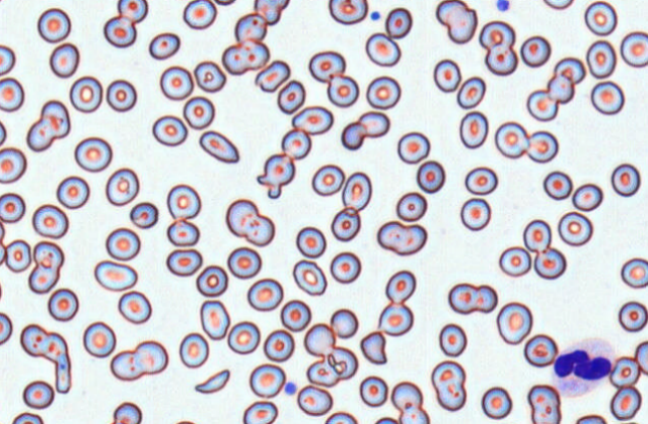GRAN: (552, 338, 614, 396)
PLT: (284, 382, 298, 397), (496, 0, 512, 13), (369, 9, 381, 21)
RBC: (109, 339, 168, 381), (225, 198, 274, 246), (28, 240, 64, 294), (435, 0, 477, 44), (221, 38, 269, 75), (496, 301, 532, 345), (94, 259, 137, 291), (74, 136, 112, 172), (198, 130, 239, 163), (527, 384, 561, 423), (105, 167, 139, 206), (248, 363, 285, 398), (292, 259, 327, 296), (494, 121, 529, 158), (31, 203, 68, 238), (199, 299, 230, 340), (291, 105, 333, 135), (166, 183, 201, 219), (82, 321, 116, 358), (246, 277, 283, 311), (69, 75, 102, 113), (341, 171, 372, 211), (365, 32, 400, 67), (557, 211, 592, 246), (377, 302, 413, 336), (365, 75, 401, 109), (37, 7, 71, 43), (308, 50, 345, 83), (585, 39, 616, 78), (117, 290, 152, 324), (159, 65, 193, 100), (105, 227, 140, 261), (590, 80, 624, 115), (254, 59, 290, 92), (584, 0, 617, 36), (39, 101, 71, 138), (523, 333, 557, 367), (56, 175, 90, 209), (609, 385, 642, 420), (226, 246, 261, 279), (296, 384, 332, 416), (459, 110, 488, 149), (326, 73, 359, 107), (311, 163, 345, 196), (227, 320, 260, 354), (182, 95, 215, 129), (152, 114, 187, 146), (178, 332, 209, 368), (195, 264, 228, 297), (397, 131, 430, 164), (303, 322, 335, 356), (385, 269, 416, 304), (479, 20, 515, 50), (49, 42, 79, 78), (390, 380, 423, 412), (103, 15, 136, 47), (533, 247, 566, 279), (526, 130, 558, 163), (193, 60, 226, 92), (397, 223, 430, 255), (47, 287, 78, 321), (330, 206, 360, 241), (432, 360, 467, 390), (485, 44, 517, 76), (526, 89, 558, 121), (329, 251, 361, 283), (498, 246, 531, 277), (280, 299, 311, 332), (481, 386, 512, 419), (263, 329, 294, 362), (106, 79, 137, 112), (460, 197, 490, 231), (610, 163, 640, 197), (182, 0, 217, 29), (276, 79, 305, 114), (166, 248, 202, 276), (620, 31, 648, 67), (609, 356, 640, 388), (295, 226, 326, 258), (234, 12, 267, 42), (281, 127, 311, 160), (438, 323, 467, 357), (456, 75, 485, 109), (328, 0, 367, 25), (0, 146, 26, 183), (395, 191, 427, 221), (618, 300, 648, 332), (520, 35, 550, 67), (306, 358, 339, 387), (522, 219, 551, 252), (416, 160, 445, 193), (464, 166, 497, 195), (433, 58, 461, 92), (26, 118, 53, 153), (40, 332, 71, 362), (359, 375, 388, 407), (22, 380, 54, 409), (166, 218, 199, 246), (435, 382, 468, 410), (4, 238, 31, 272), (253, 0, 289, 25), (329, 308, 358, 339), (553, 56, 585, 84), (384, 7, 412, 39), (148, 32, 180, 60), (543, 170, 572, 200), (572, 183, 603, 211), (620, 257, 648, 288), (0, 76, 24, 112), (20, 323, 46, 356), (546, 73, 574, 103), (376, 220, 406, 248), (358, 110, 389, 137), (242, 400, 278, 423), (129, 201, 158, 229), (0, 192, 25, 223), (110, 401, 142, 424), (117, 0, 148, 23), (398, 406, 429, 423), (634, 340, 648, 375), (0, 44, 15, 76), (0, 311, 12, 345), (11, 412, 44, 424), (324, 411, 357, 423), (574, 414, 607, 424), (542, 0, 574, 9), (373, 416, 398, 424), (0, 119, 6, 146), (0, 241, 6, 266), (172, 419, 199, 424), (0, 219, 5, 242), (213, 0, 236, 5), (0, 274, 3, 304), (615, 421, 644, 424)
Schistocyte: (257, 154, 296, 200), (193, 368, 233, 396), (359, 331, 388, 366), (341, 121, 370, 152), (53, 356, 73, 394)
